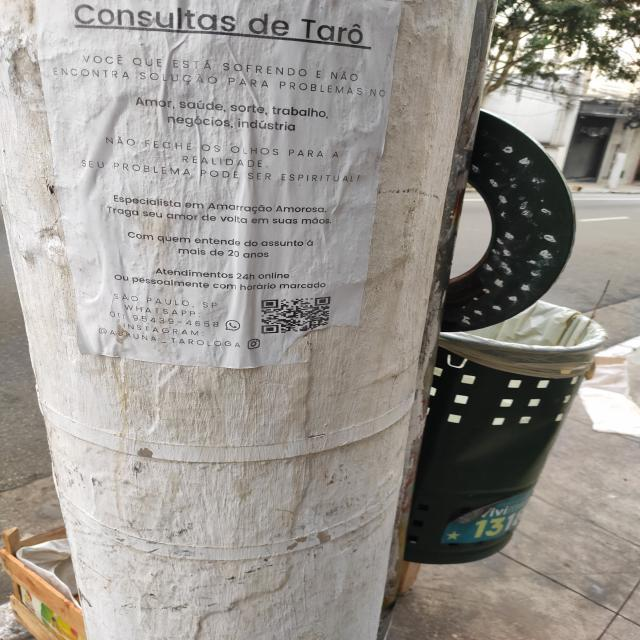qrcode: (262, 298, 332, 334)
